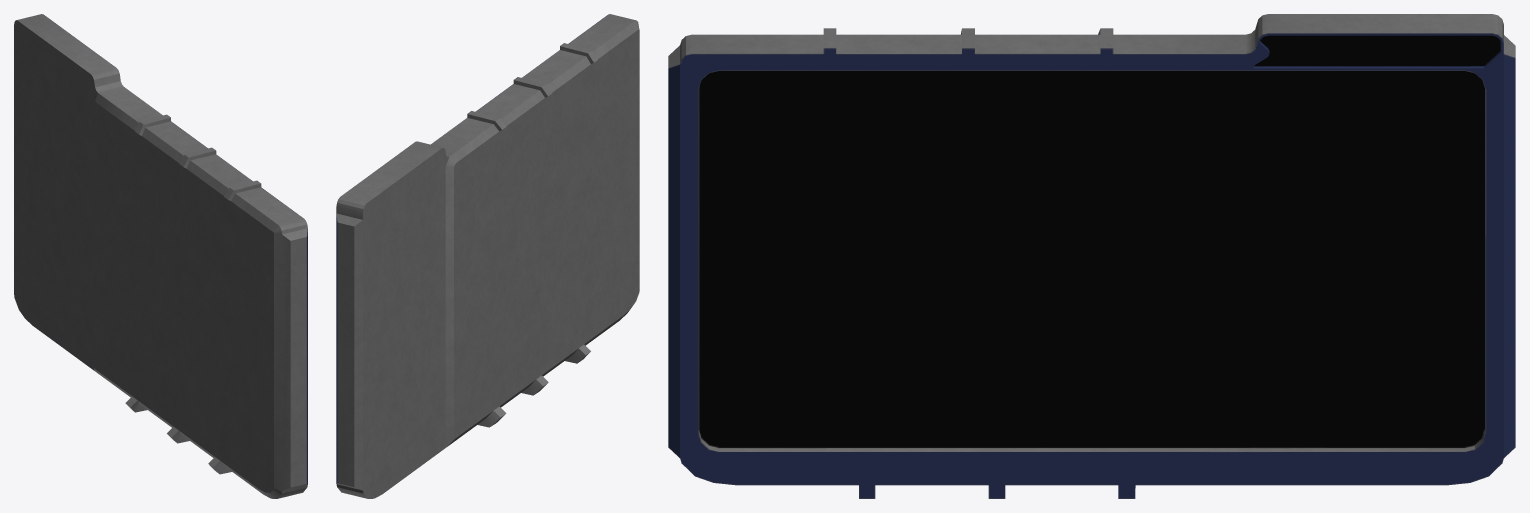
Rendered from very_scifi_monitor.fbx.
3 renders of one model, left to right at view 1: azimuth 30°, elevation 25°; view 2: azimuth 150°, elevation 25°; view 3: azimuth 270°, elevation 25°, orthographic. The views are drawn at different scales.
Visible parts, largest first — view 1: bake; view 2: bake; view 3: bake.
Boxes of the visible parts, <box> form: bake: <box>14,14,307,498</box>; bake: <box>336,14,639,498</box>; bake: <box>668,14,1515,498</box>.
Bounding box in the file's own units: 28.82 × 225 × 370.
1 material, 1 textured.
